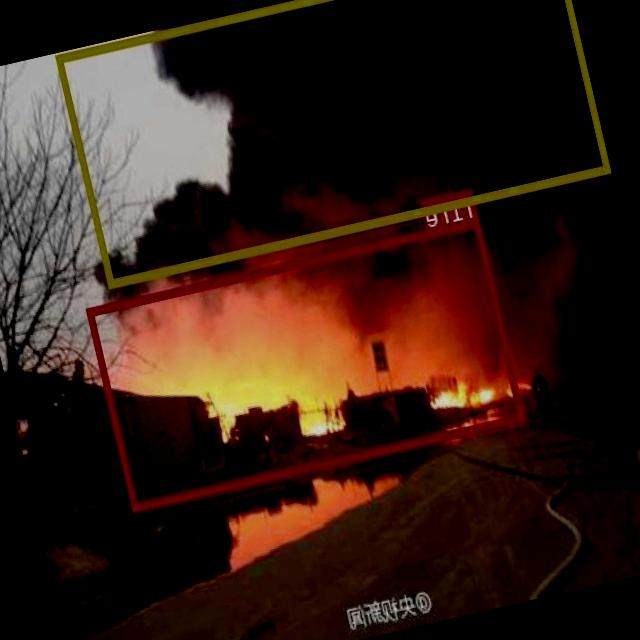fire: (86, 216, 526, 510)
smoke: (57, 0, 612, 285)
